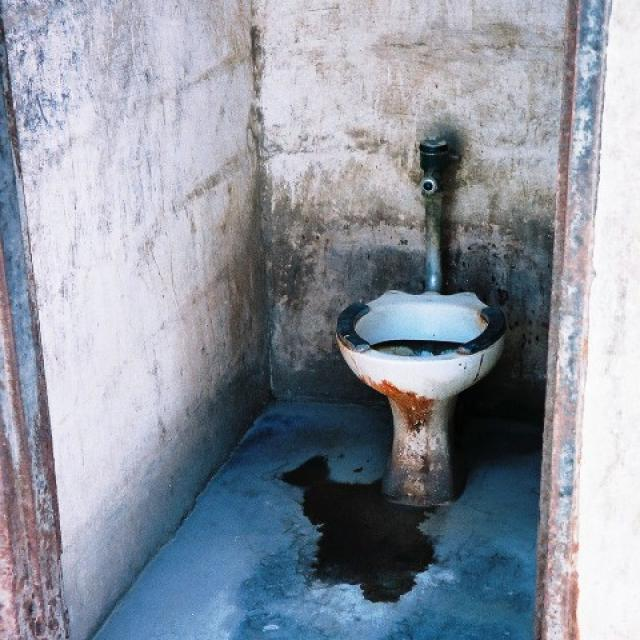dirty_floor: (2, 1, 579, 637), (254, 0, 573, 410), (89, 397, 541, 638), (276, 450, 442, 606)
